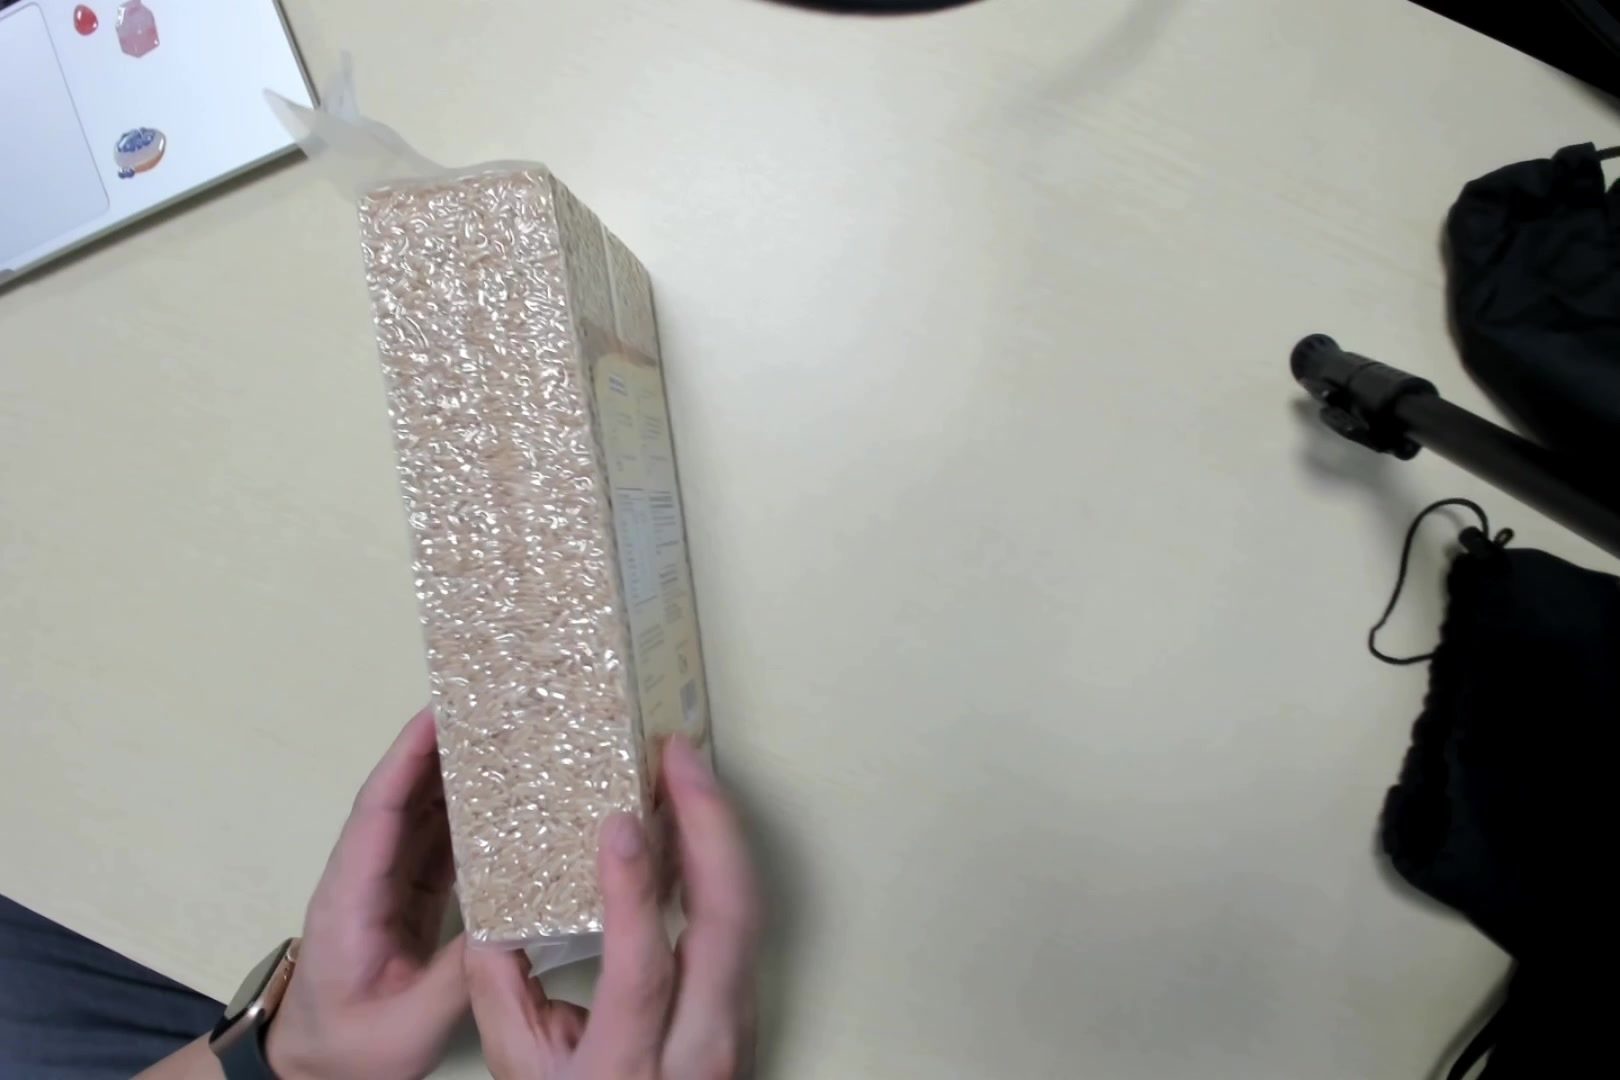Rice(BrownOthers)_1000-1999g_NonHalal_Healthy: (352, 102, 721, 959)
